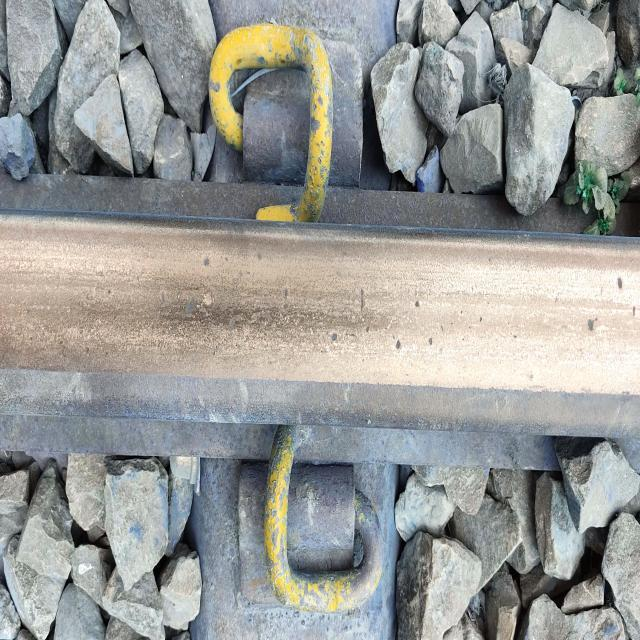Good Fasteners: (198, 0, 393, 233), (206, 414, 403, 624)
